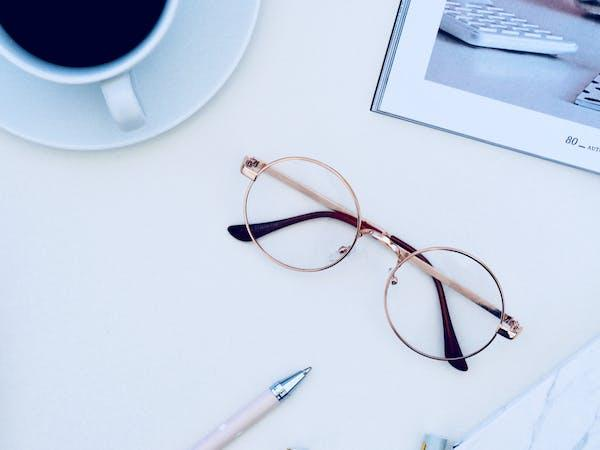spectacles: (219, 139, 524, 382)
